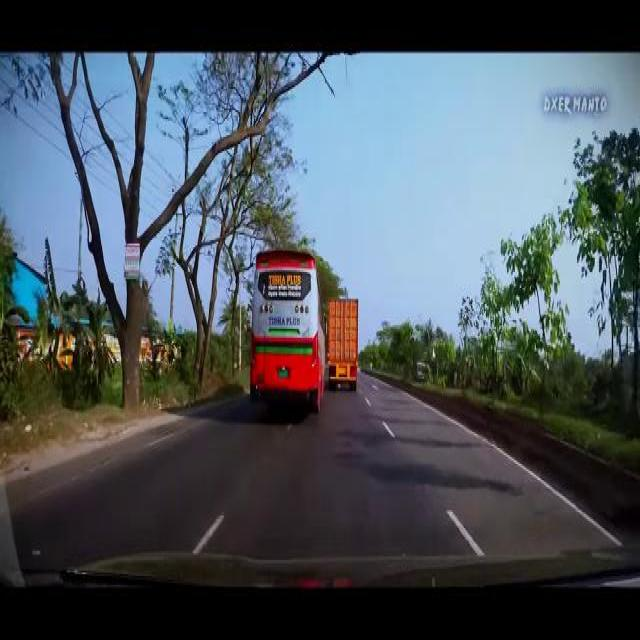bus: (247, 249, 328, 416)
truck: (324, 291, 359, 393)
